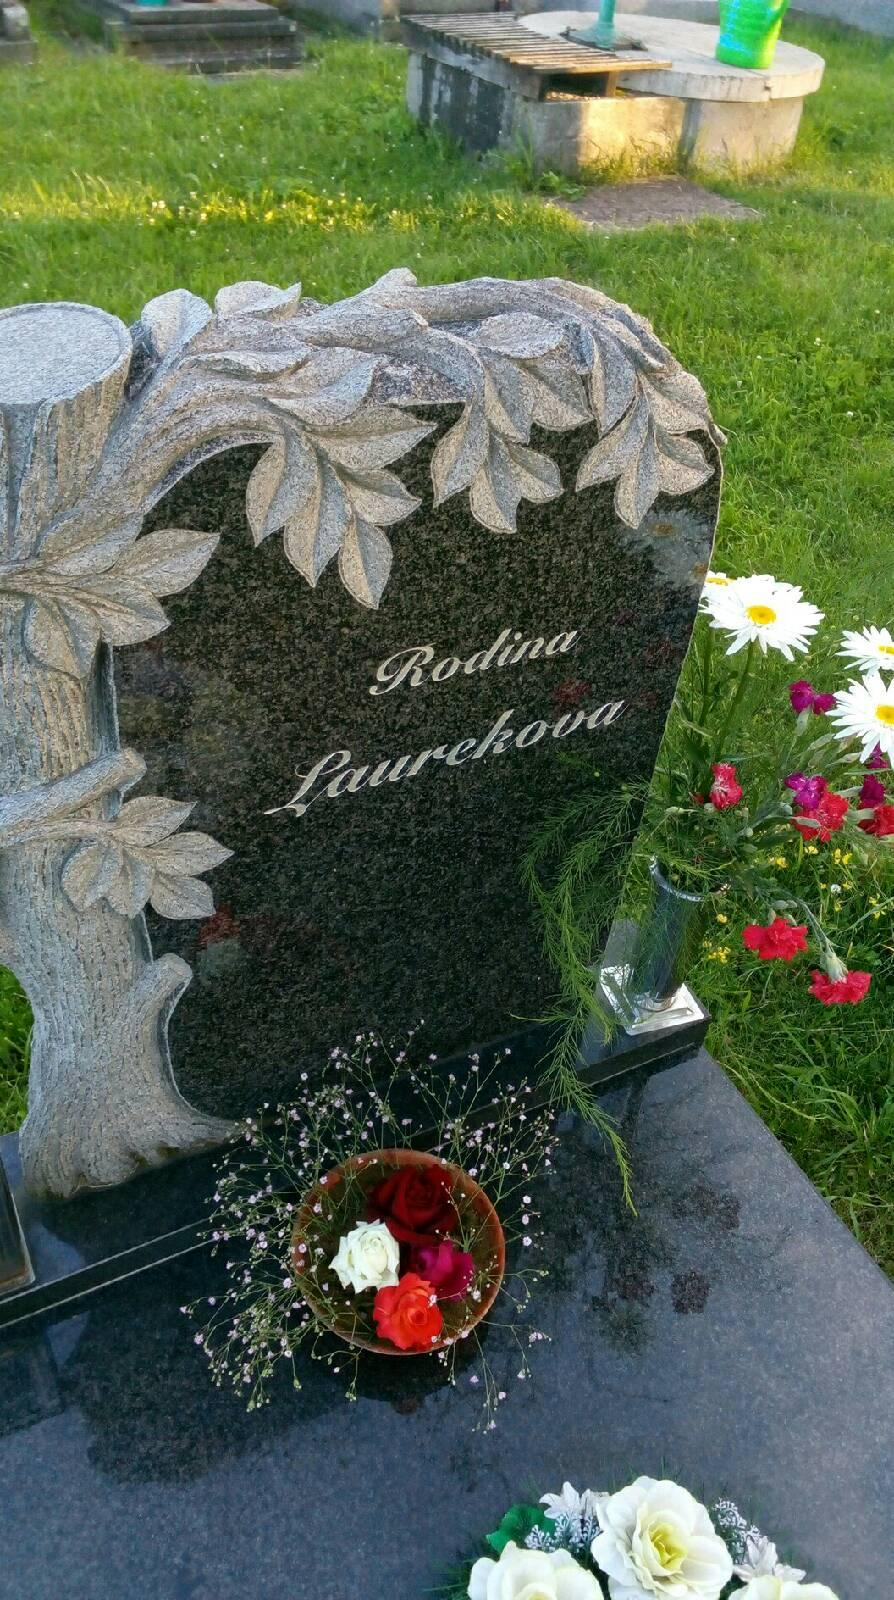vault: (0, 269, 894, 1600)
